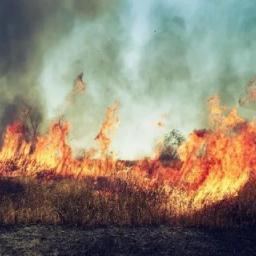Low smoke: (0, 0, 256, 122)
Medium fire: (2, 97, 256, 226)
